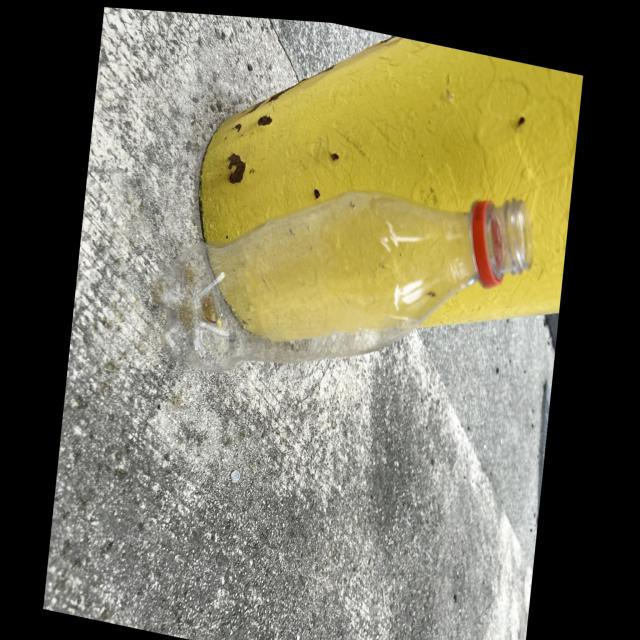empty: (157, 191, 533, 371)
